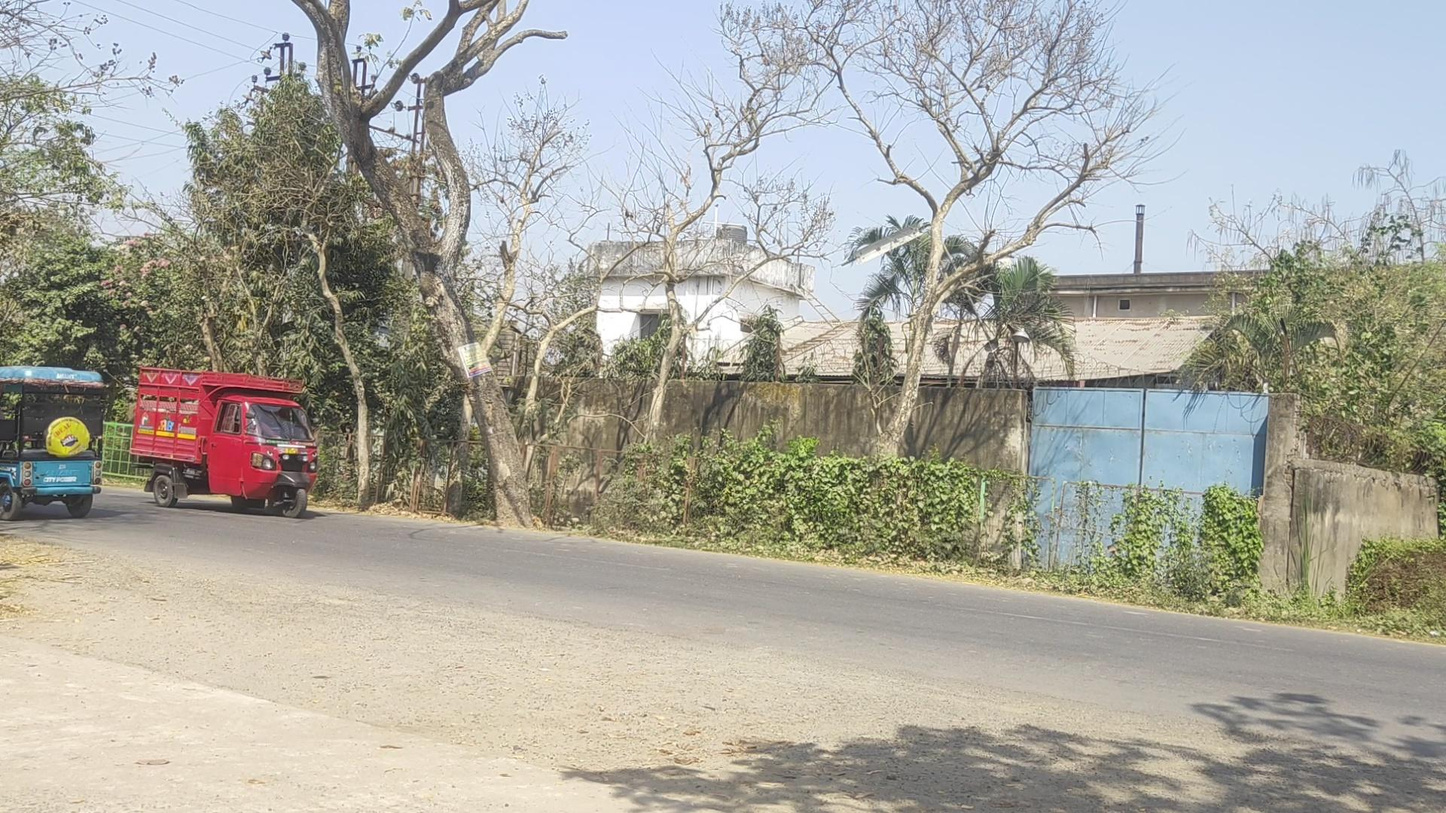Auto: (1, 364, 107, 522)
van: (130, 365, 319, 519)
